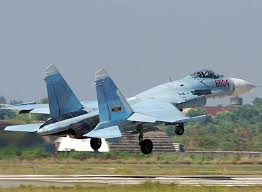maybay_muctieu: (15, 51, 262, 157)
